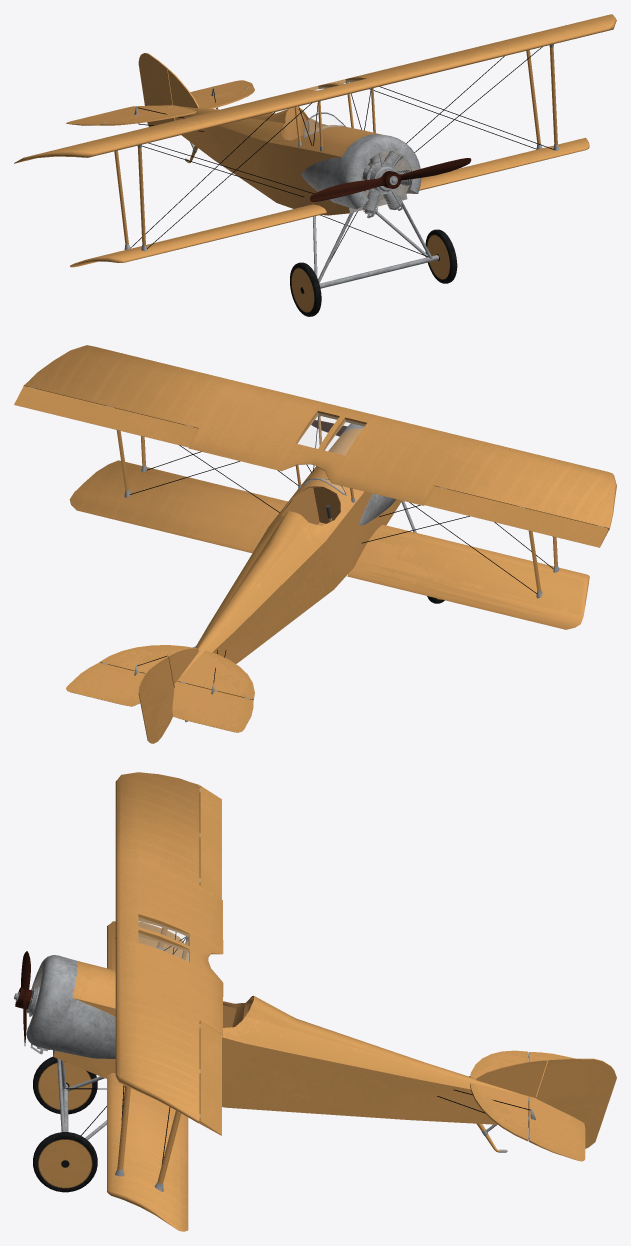
3 renders of one model, top to bottom at view 1: azimuth 30°, elevation 25°; view 2: azimuth 150°, elevation 25°; view 3: azimuth 270°, elevation 25°, orthographic. The views are drawn at different scales.
Parts seen in each view (by area): view 1: plane, cable, proppeler, engine, glass; view 2: plane, glass, cable; view 3: plane, glass, proppeler.
Part boxes in pixels (left/top/right/bottom): plane: left=14, top=14, right=616, bottom=316; cable: left=130, top=47, right=554, bottom=262; proppeler: left=310, top=158, right=471, bottom=201; engine: left=362, top=151, right=411, bottom=218; glass: left=304, top=80, right=356, bottom=135; plane: left=14, top=345, right=616, bottom=743; glass: left=297, top=413, right=365, bottom=492; cable: left=129, top=416, right=553, bottom=683; plane: left=26, top=772, right=616, bottom=1231; glass: left=138, top=918, right=189, bottom=961; proppeler: left=15, top=951, right=32, bottom=1045.
Size of the model in its own units: 8.64 by 2.72 by 6.55.
Materials: 2 (1 with a texture image).
